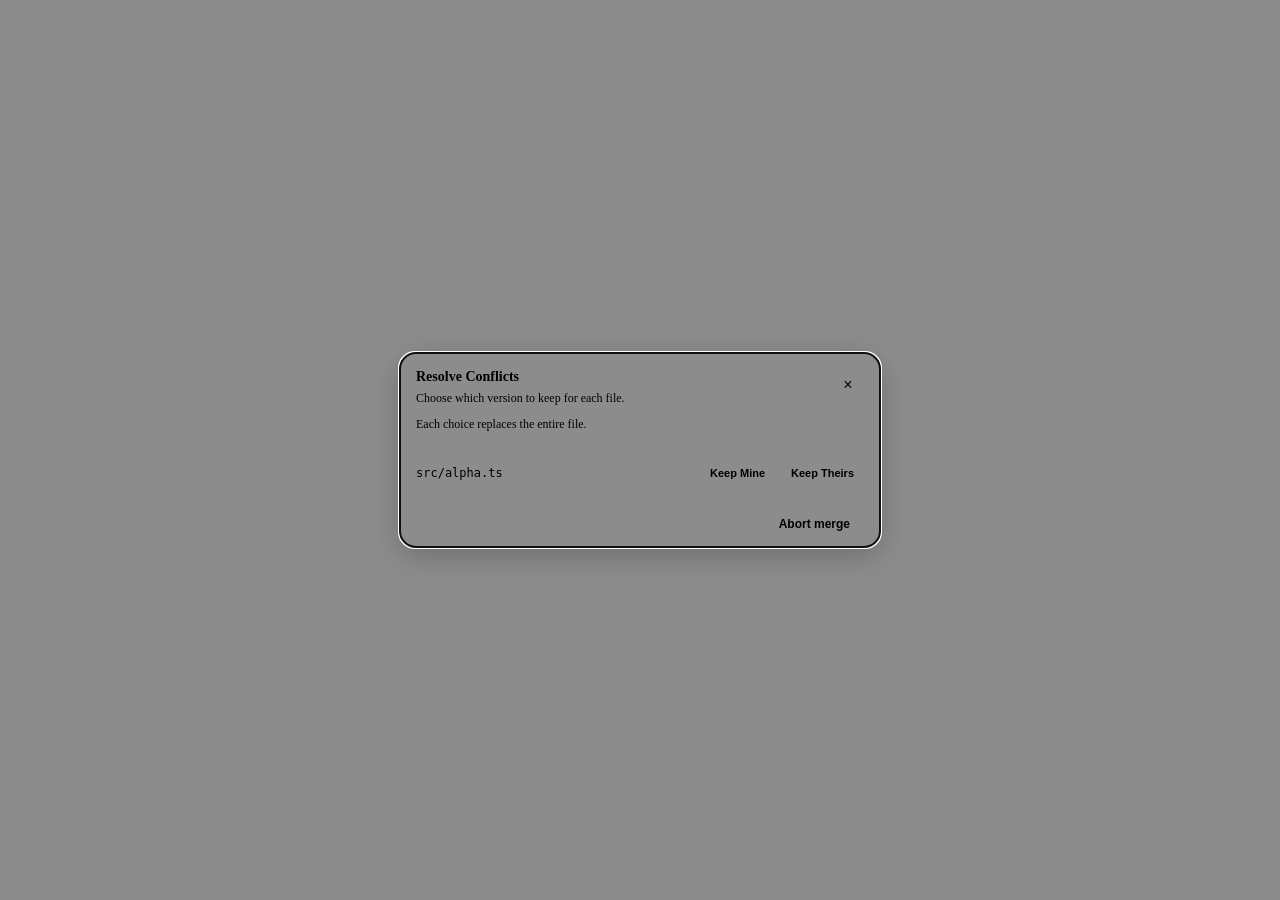
Test: ConflictResolver › does not close when merge completion fails (reject)
Click the button "Keep Mine" at (738,473), box [700, 463, 775, 483]
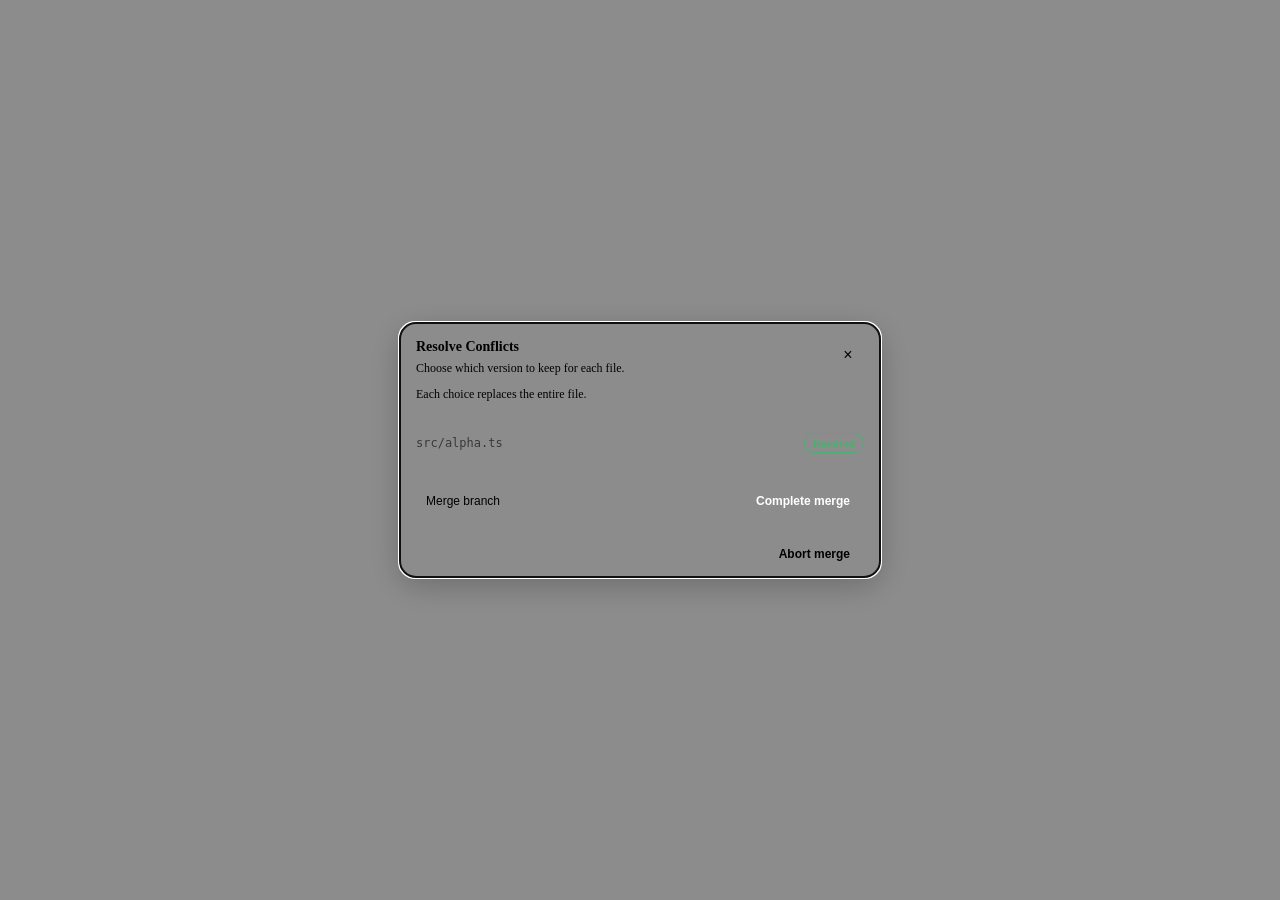
Check: the text "Resolved" is shown, box [804, 433, 864, 453]
Click the button "Complete merge" at (803,501), box [742, 483, 864, 519]
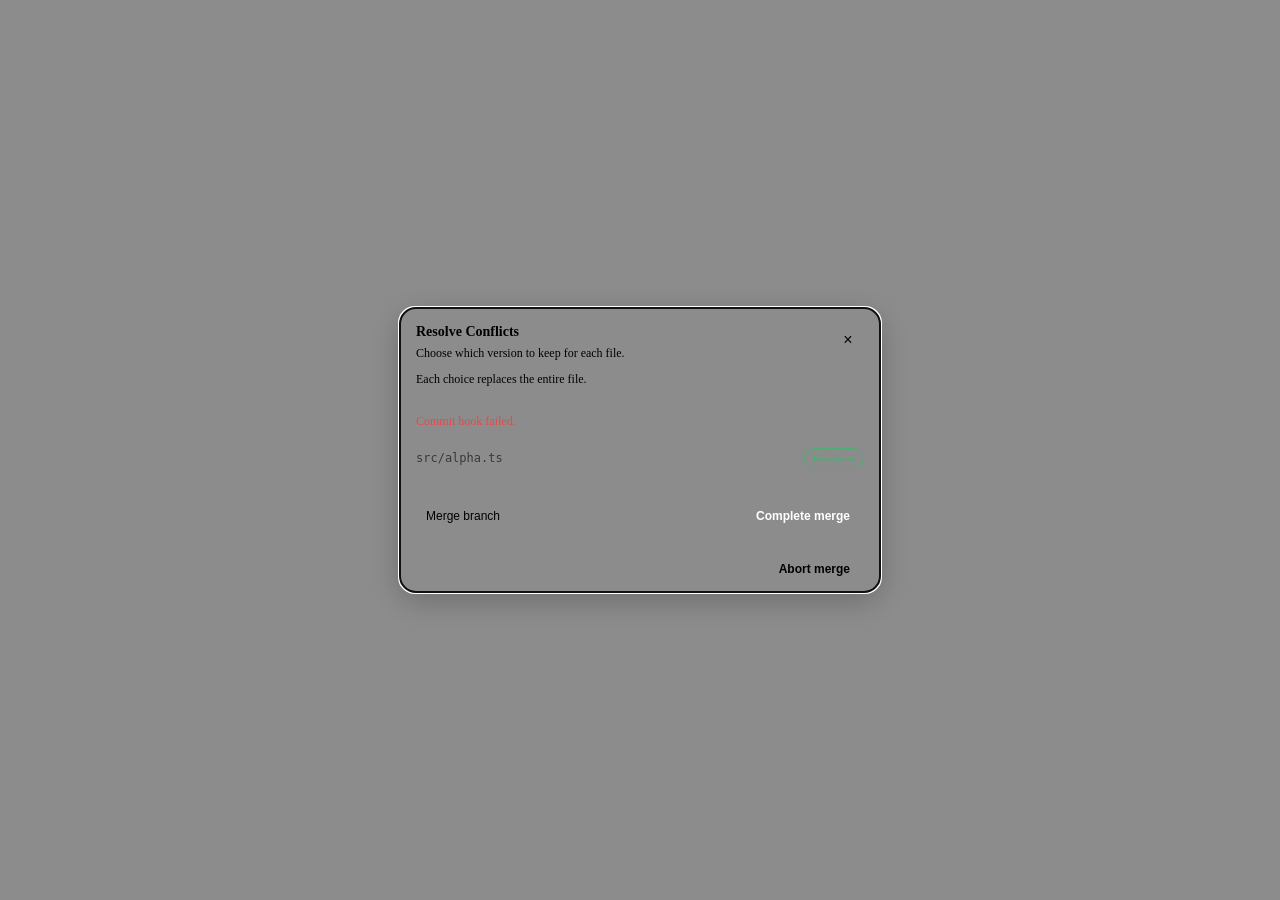
Check: the button "Complete merge" is enabled, box [742, 498, 864, 534]
Check: the message "Commit hook failed." is shown, box [416, 414, 516, 428]
